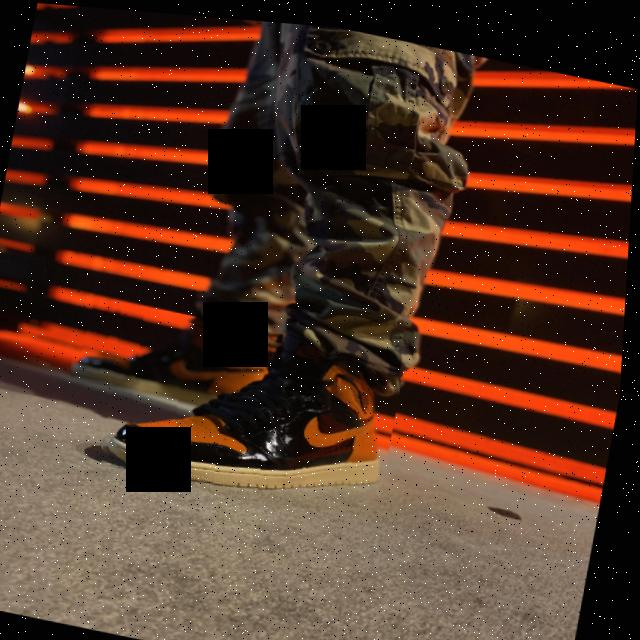shoe: (97, 303, 410, 514), (72, 291, 289, 414)
